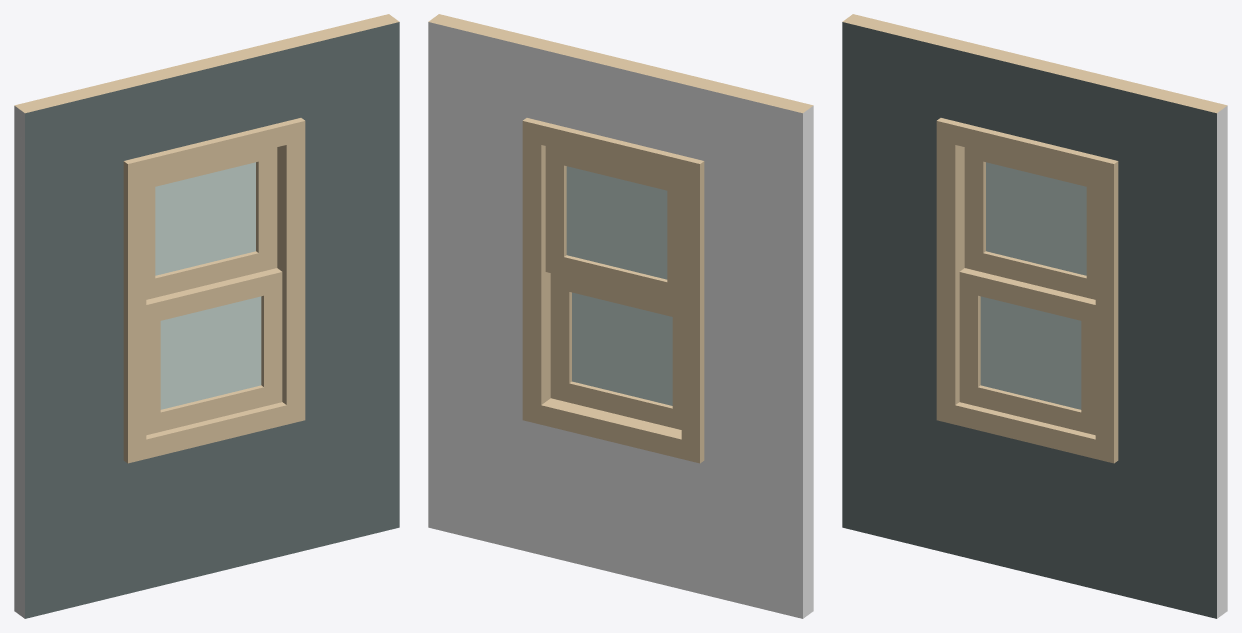
The model's file is wall_window_slide.glb.
3 views of the same model, side by side, from view 1: azimuth 30°, elevation 25°; view 2: azimuth 150°, elevation 25°; view 3: azimuth 330°, elevation 25° (orthographic).
Parts seen in each view (by area): view 1: _MeshInstance3D_645, _MeshInstance3D_643, _MeshInstance3D_644; view 2: _MeshInstance3D_645, _MeshInstance3D_644, _MeshInstance3D_643; view 3: _MeshInstance3D_645, _MeshInstance3D_643, _MeshInstance3D_644.
Boxes of the visible parts, x1=… form: _MeshInstance3D_645: x1=14, y1=14, x2=399, y2=618; _MeshInstance3D_643: x1=146, y1=268, x2=282, y2=435; _MeshInstance3D_644: x1=146, y1=147, x2=277, y2=299; _MeshInstance3D_645: x1=428, y1=14, x2=813, y2=618; _MeshInstance3D_644: x1=545, y1=146, x2=681, y2=304; _MeshInstance3D_643: x1=550, y1=273, x2=681, y2=429; _MeshInstance3D_645: x1=842, y1=14, x2=1227, y2=618; _MeshInstance3D_643: x1=959, y1=268, x2=1095, y2=435; _MeshInstance3D_644: x1=964, y1=147, x2=1095, y2=299.
Size of the model in its own units: 10 by 12.9 by 0.891.
